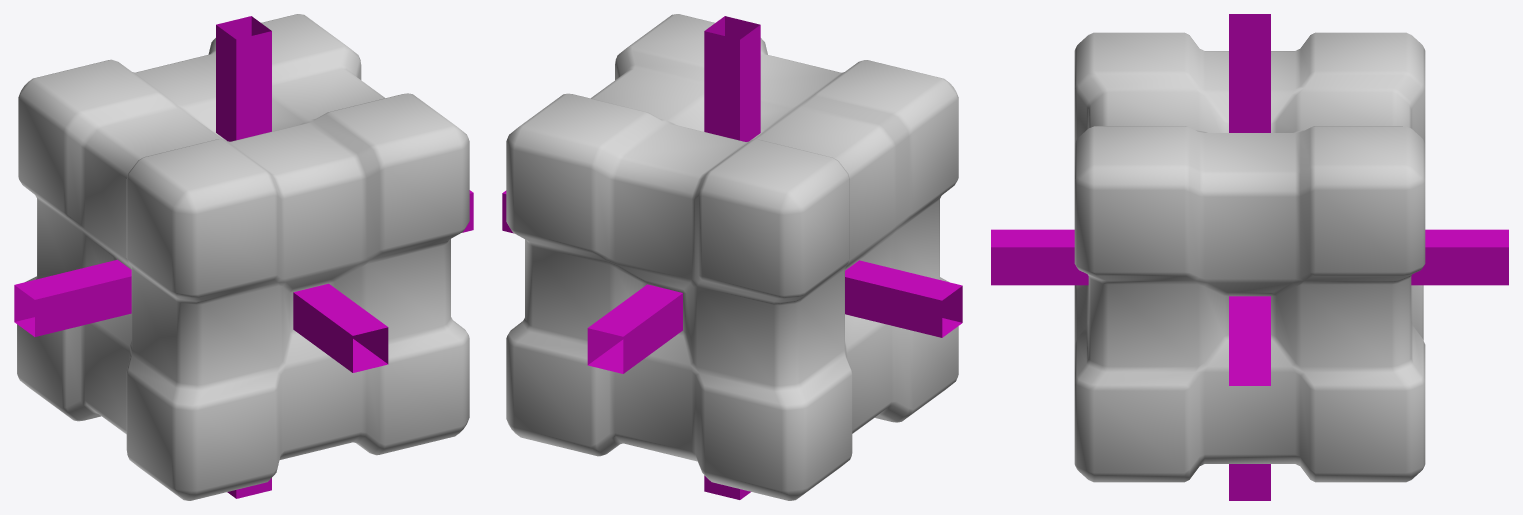
The model's file is HiperCubeDrifter.fbx.
The picture shows the model from 3 angles, left to right: view 1: azimuth 30°, elevation 25°; view 2: azimuth 150°, elevation 25°; view 3: azimuth 270°, elevation 25°; orthographic projection. The views are drawn at different scales.
Visible parts, largest first — view 1: HiperCubeDrifter; view 2: HiperCubeDrifter; view 3: HiperCubeDrifter.
Part boxes in pixels (x1=…): HiperCubeDrifter: x1=14, y1=14, x2=473, y2=500; HiperCubeDrifter: x1=502, y1=14, x2=962, y2=500; HiperCubeDrifter: x1=991, y1=14, x2=1508, y2=500.
Size of the model in its own units: 321 by 321 by 321.
